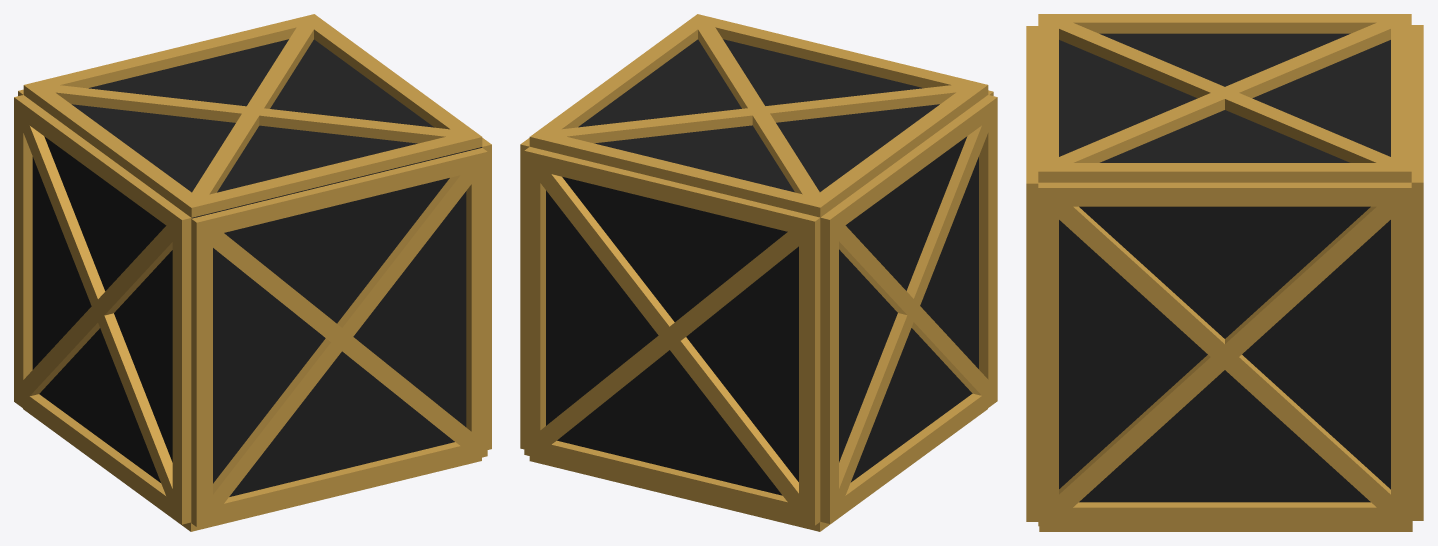
File: TrapBox.fbx
The picture shows the model from 3 angles, left to right: view 1: azimuth 30°, elevation 25°; view 2: azimuth 150°, elevation 25°; view 3: azimuth 270°, elevation 25°; orthographic projection. The views are drawn at different scales.
Visible parts, largest first — view 1: Unity_1_Meter.004; view 2: Unity_1_Meter.004; view 3: Unity_1_Meter.004.
Part boxes in pixels (left/top/right/bottom): Unity_1_Meter.004: left=14, top=14, right=491, bottom=531; Unity_1_Meter.004: left=520, top=14, right=997, bottom=531; Unity_1_Meter.004: left=1026, top=14, right=1423, bottom=531.
Bounding box in the file's own units: 208 × 208 × 208.
